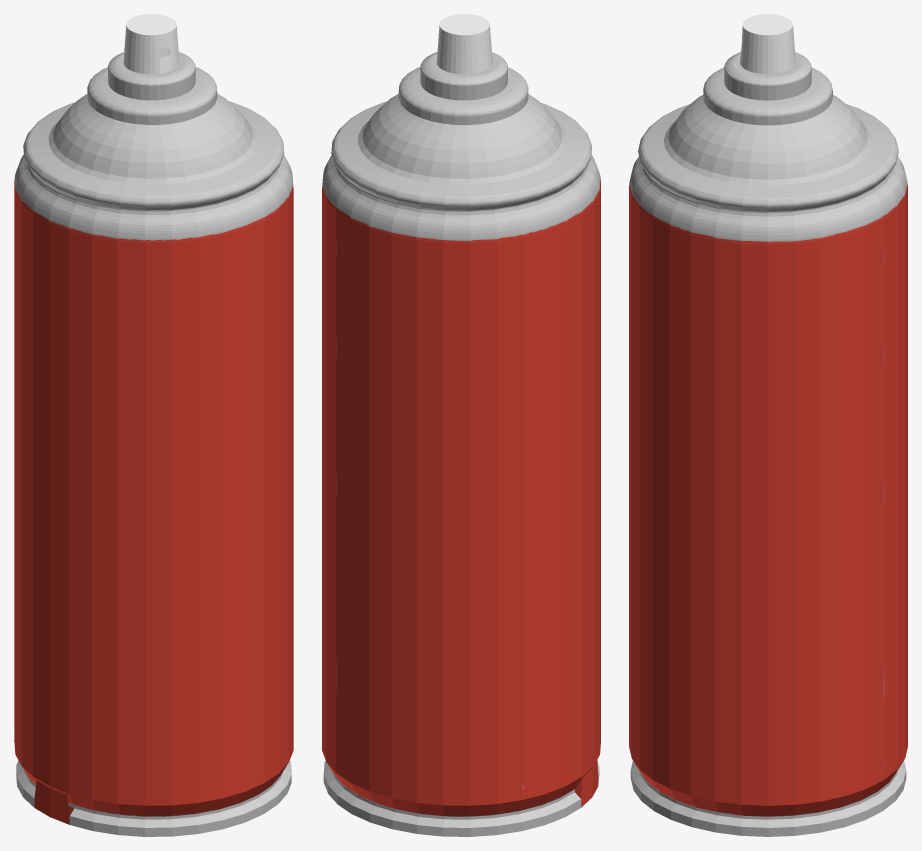
File: spraypaintGB.glb
The picture shows the model from 3 angles, left to right: view 1: azimuth 30°, elevation 25°; view 2: azimuth 150°, elevation 25°; view 3: azimuth 270°, elevation 25°; orthographic projection.
Parts seen in each view (by area): view 1: Cylinder; view 2: Cylinder; view 3: Cylinder.
Boxes of the visible parts, box(x1,y1,x2,y2) form: Cylinder: box(14, 14, 293, 836); Cylinder: box(322, 14, 600, 836); Cylinder: box(629, 14, 907, 836).
Bounding box in the file's own units: 2.51 × 7.46 × 2.51.
Materials: 1 (1 with a texture image).
